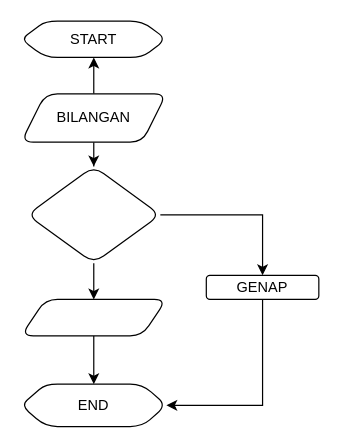
The diagram is 340 pixels wide and 448 high, and some of its shapes have lost their labels. Each missing label, with the centre of its shape:
BIL MOD 2-0: point (93, 214)
GAJIL: point (93, 317)
